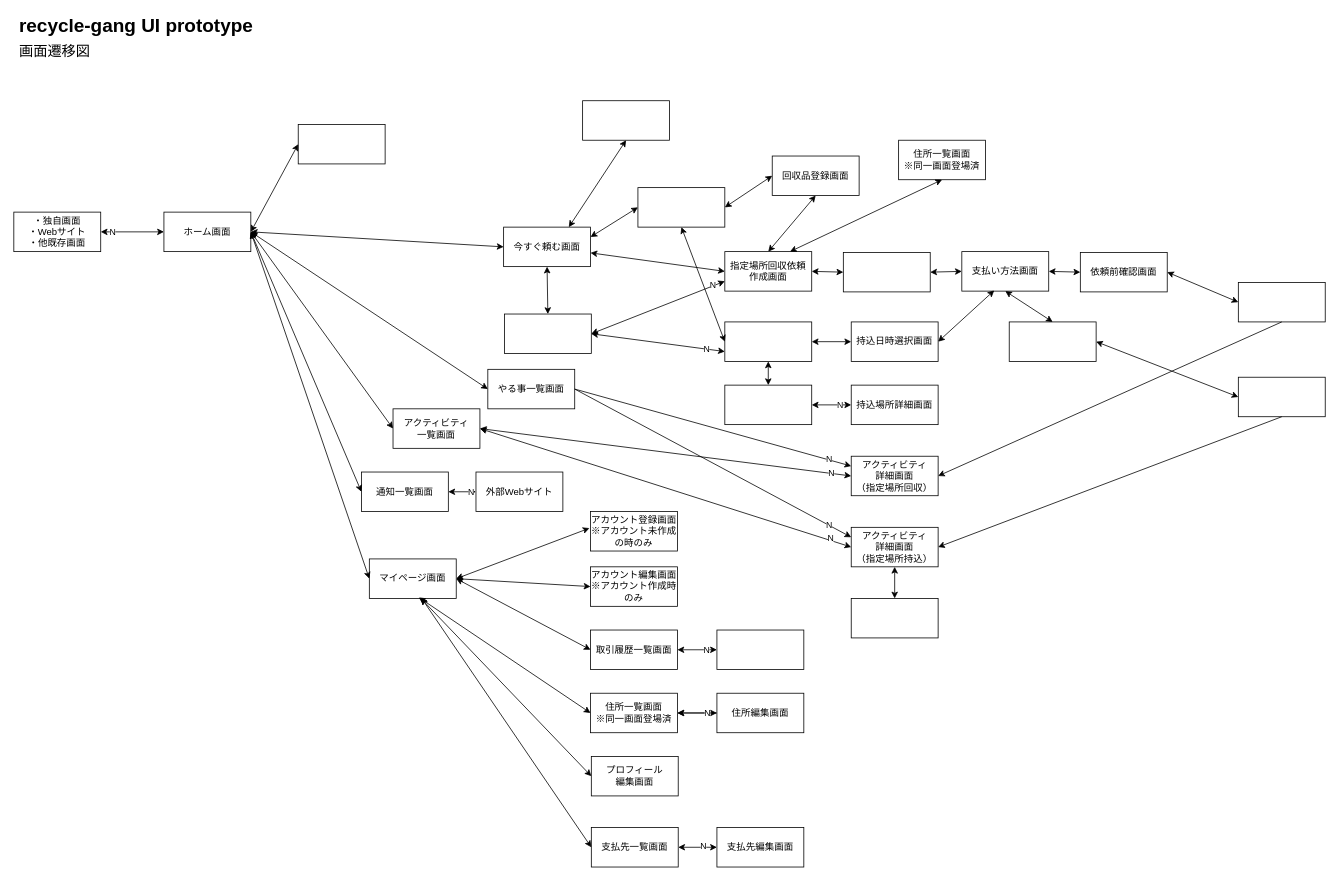
This 1339x881 diagram has some shape labels left out. Each missing label, with the centre of its shape:
"下書き一覧画面" goes at [547,333].
"予約前確認画面" goes at [1052,341].
"予約完了画面" goes at [1281,396].
"依頼完了画面" goes at [1281,302].
"取引履歴詳細画面" goes at [760,649].
"回収ガイド ※優先度低め" goes at [341,144].
"回収日時選択画面" goes at [886,272].
"持込場所一覧マップ 画面" goes at [768,404].
"指定場所 入場QRコード 画面" goes at [894,618].
"指定場所持込 予約 作成 画面" goes at [768,341].
"料金マスタ画面" goes at [681,207].
"都道府県選択画面" goes at [626,120].
